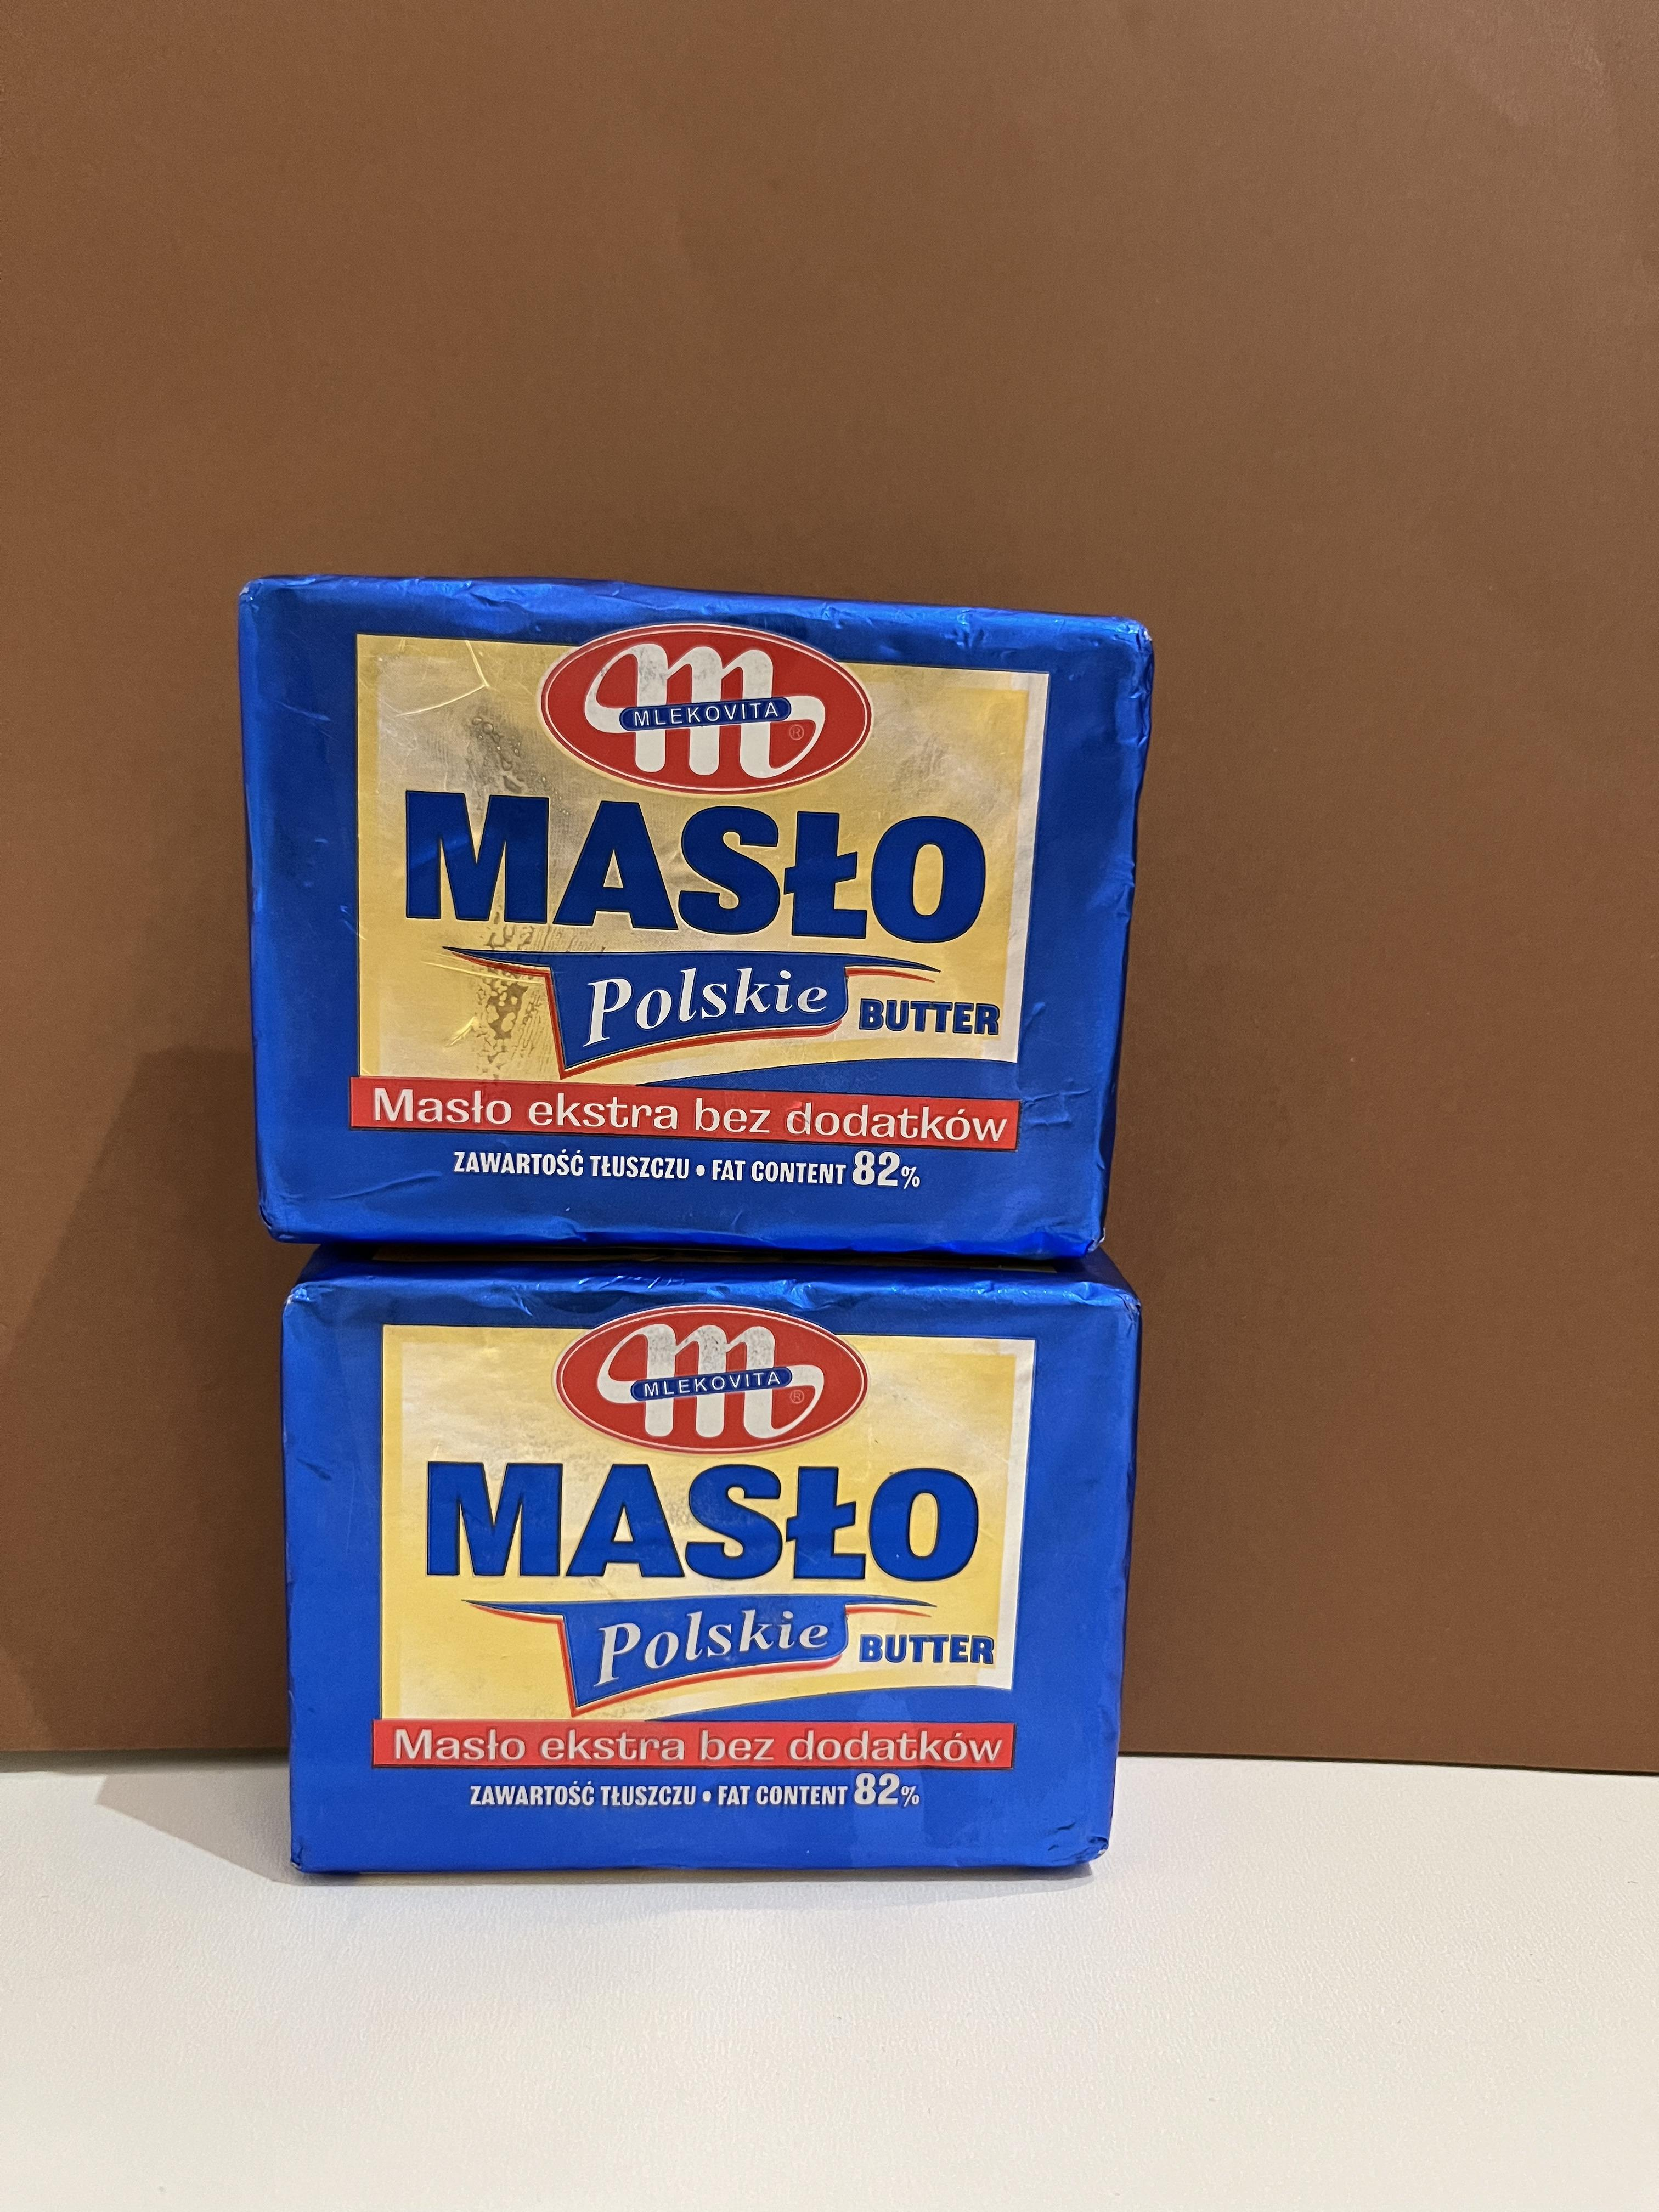Butter: (240, 571, 1148, 1259), (282, 1289, 1143, 1900)
